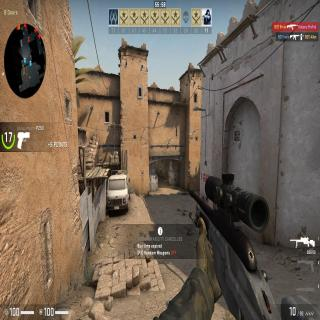T-Body: (197, 185, 200, 205), (160, 166, 162, 177), (156, 169, 156, 174)
T-Head: (199, 185, 200, 189), (160, 166, 161, 168)
